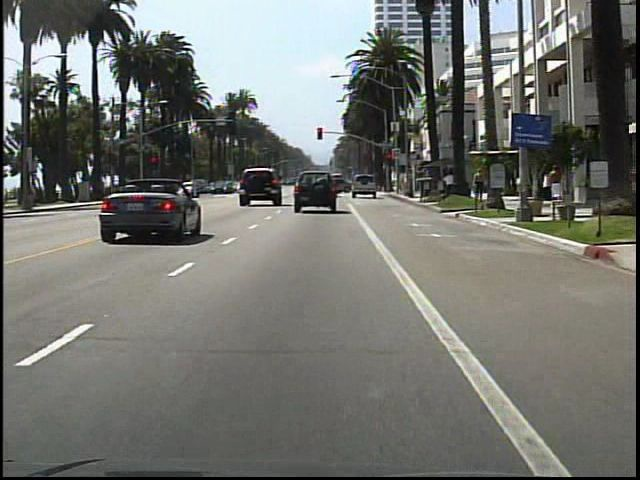person: (544, 160, 564, 211), (473, 165, 487, 207), (440, 169, 459, 199)
